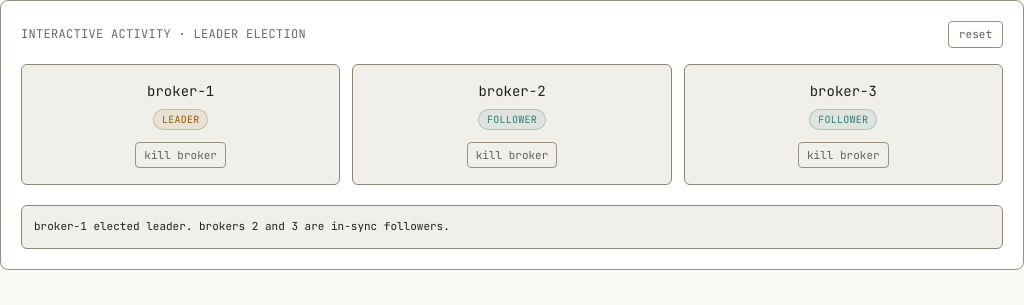
LeaderElectionDemo › elects a new leader from the ISR when the leader fails
Click the 1st button "kill broker". click: (181, 155)
box: [135, 142, 226, 168]
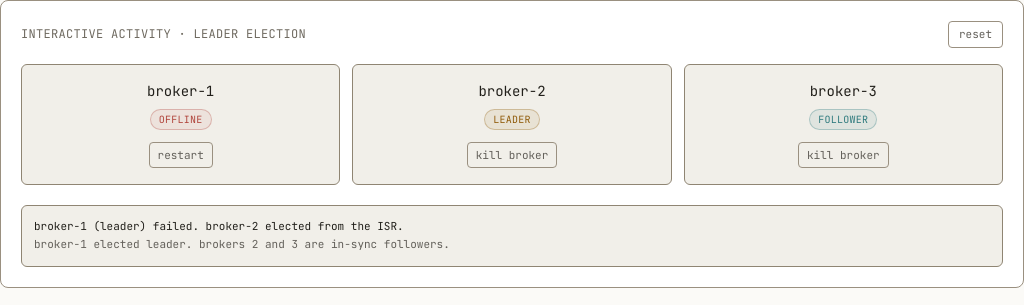
Now the text "broker-1 (leader) failed. broker-2 elected from the ISR." is shown, box [34, 219, 404, 233]
